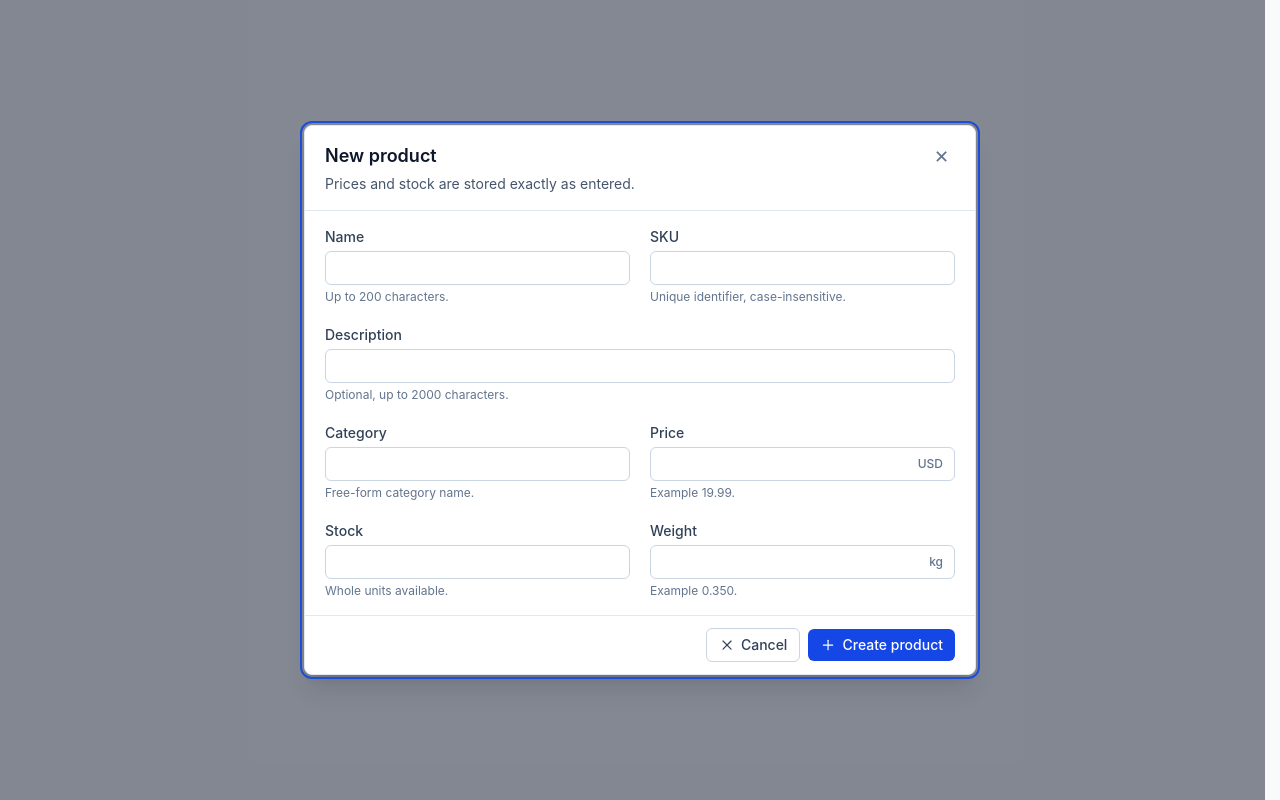
Test: ProductFormModal › shows client-side errors without submitting and focuses the first bad field
The width and height of the screenshot is (1280, 800).
Click the button "Create product".
click(882, 645)  # box x1=808 y1=629 x2=955 y2=661
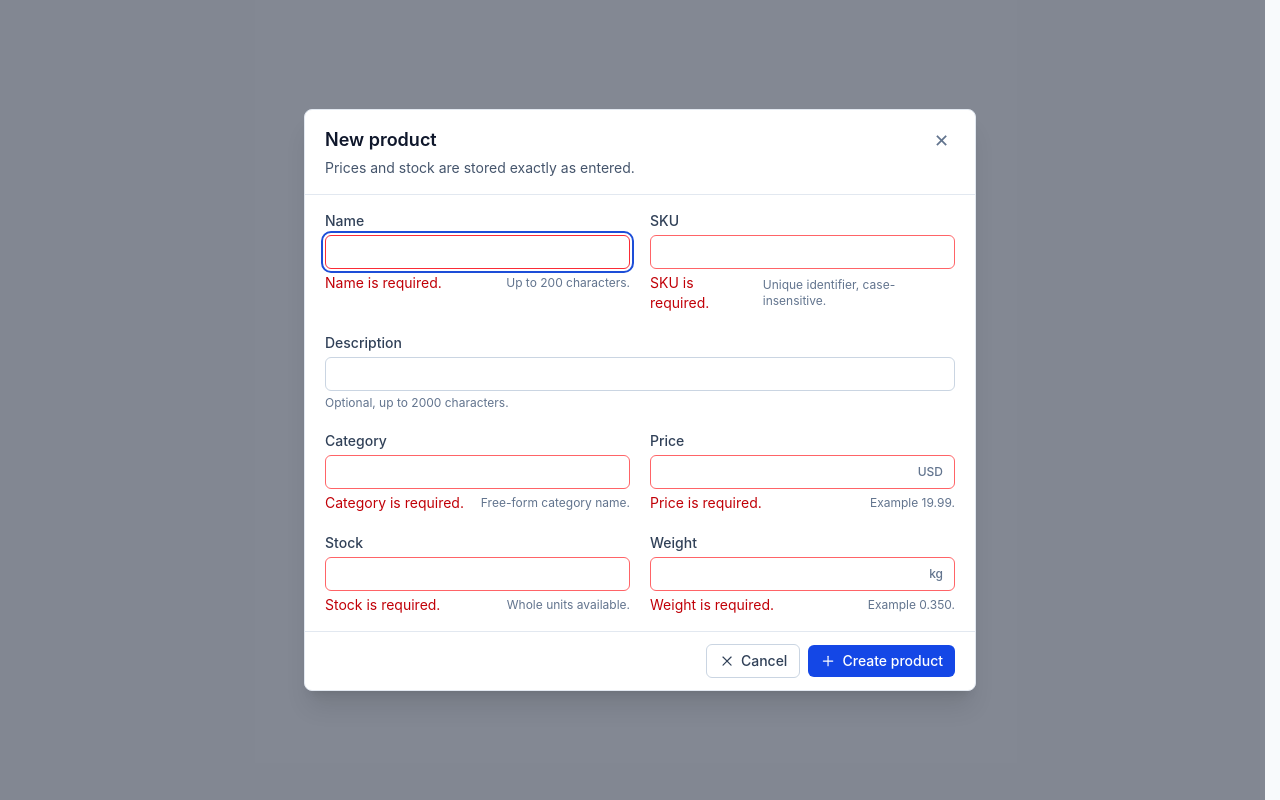
Check: the text "Name is required." is shown, box x1=325 y1=273 x2=442 y2=293
Check: the text "Price is required." is shown, box x1=650 y1=493 x2=762 y2=513
